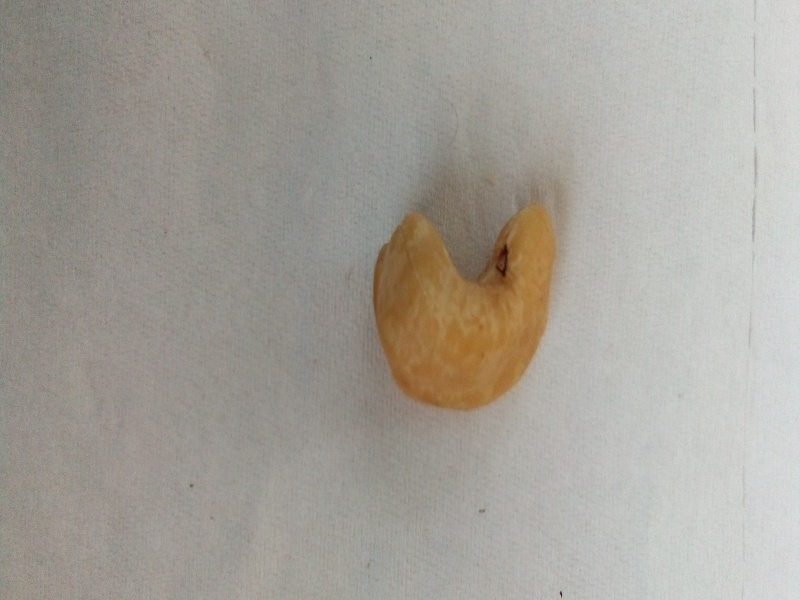cashew: (350, 176, 575, 439)
